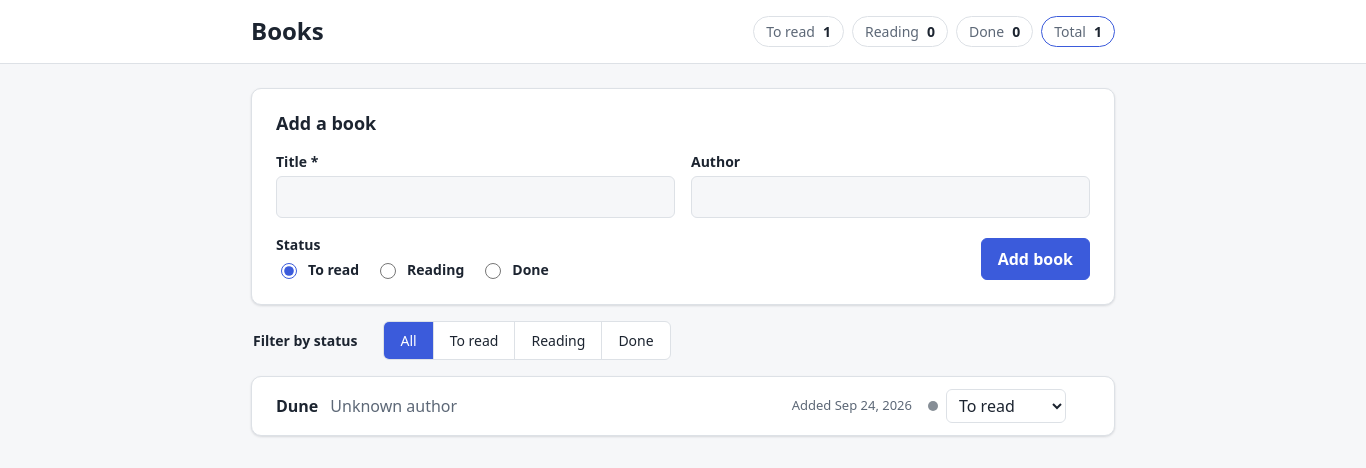
Test: StatusFilter › shows a filter-specific empty state
The width and height of the screenshot is (1366, 468).
Step 1. Click the radio button labelled "Done" in the row of "All" → [636, 340], box [601,322,670,359]
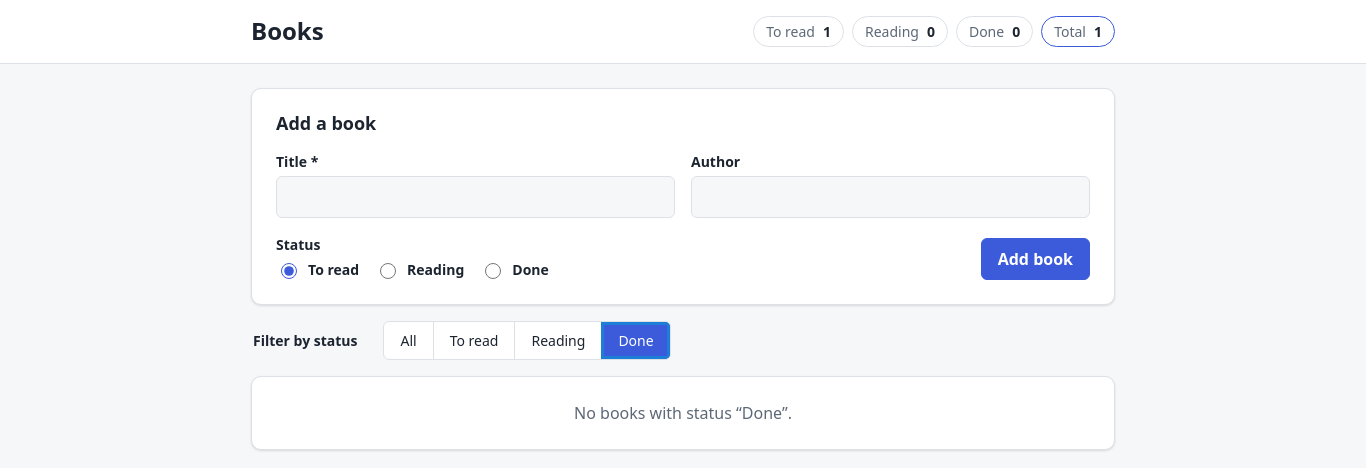
Now the text "No books with status “Done”." is shown, box [574,402,792,424]
